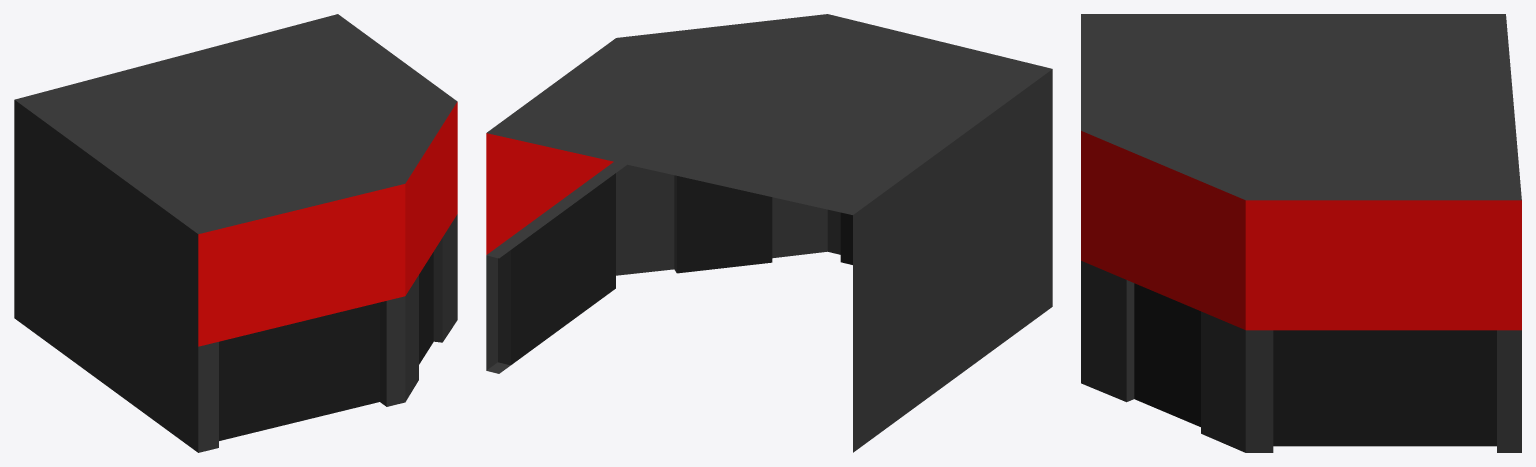
Rendered from Edificio-4.fbx.
3 views of the same model, side by side, from view 1: azimuth 30°, elevation 25°; view 2: azimuth 150°, elevation 25°; view 3: azimuth 270°, elevation 25° (orthographic). The views are drawn at different scales.
Visible parts, largest first — view 1: Plane; view 2: Plane; view 3: Plane.
Part boxes in pixels (x1=…): Plane: x1=14, y1=14, x2=457, y2=452; Plane: x1=486, y1=14, x2=1052, y2=452; Plane: x1=1081, y1=14, x2=1521, y2=452.
Bounding box in the file's own units: 830 × 525 × 830.
